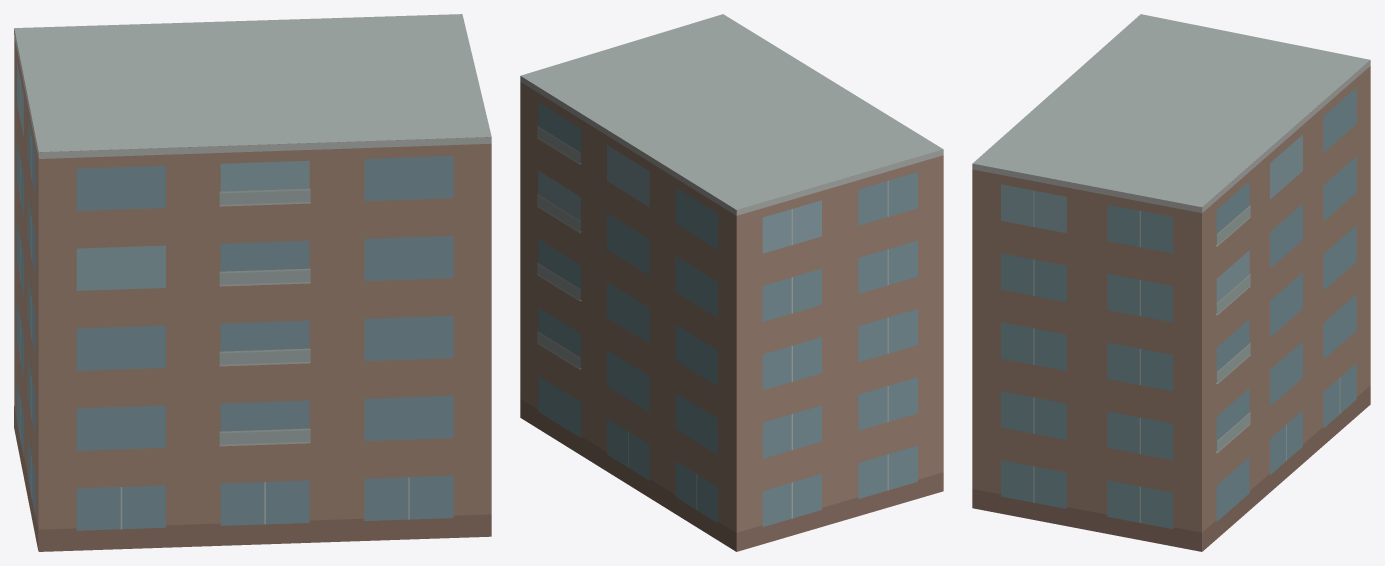
The model's file is survey-upis-32552455.glb.
3 views of the same model, side by side, from view 1: azimuth 30°, elevation 25°; view 2: azimuth 150°, elevation 25°; view 3: azimuth 270°, elevation 25° (orthographic). The views are drawn at different scales.
Visible parts, largest first — view 1: survey-upis-32552455.tmp; view 2: survey-upis-32552455.tmp; view 3: survey-upis-32552455.tmp.
Part boxes in pixels (<box>): survey-upis-32552455.tmp: <box>14,14,491,551</box>; survey-upis-32552455.tmp: <box>520,14,943,551</box>; survey-upis-32552455.tmp: <box>972,14,1370,551</box>.
Bounding box in the file's own units: 17.09 × 14.2 × 14.88.
